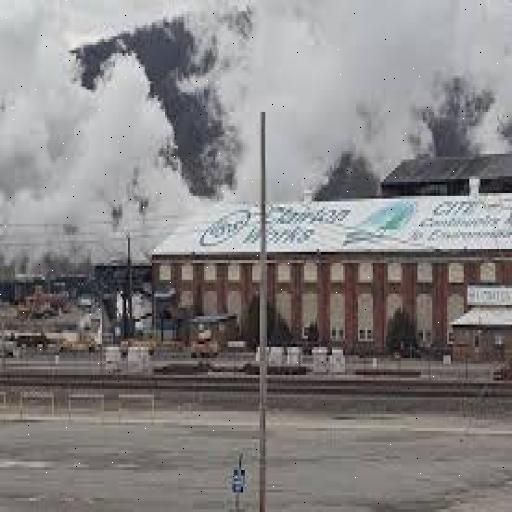smoke: (110, 8, 252, 199)
